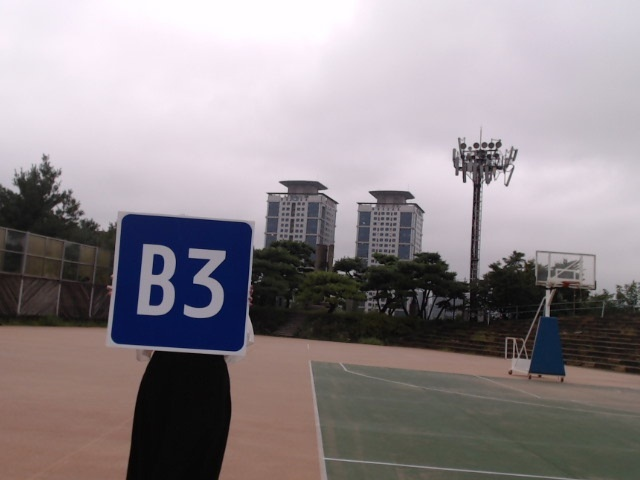delivery_b3: (110, 211, 251, 353)
